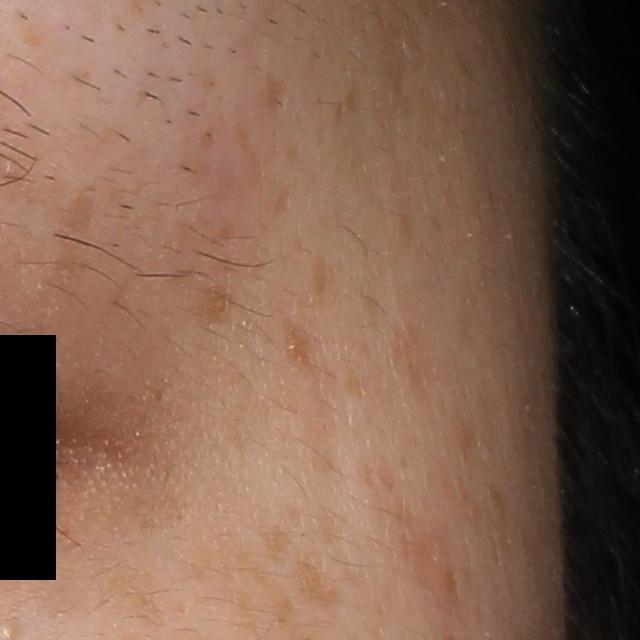melasma: (102, 564, 173, 634), (227, 103, 276, 184), (281, 316, 325, 372), (294, 561, 337, 610), (194, 283, 234, 332), (53, 193, 98, 236), (257, 524, 302, 562), (305, 251, 335, 300), (266, 589, 299, 626)
